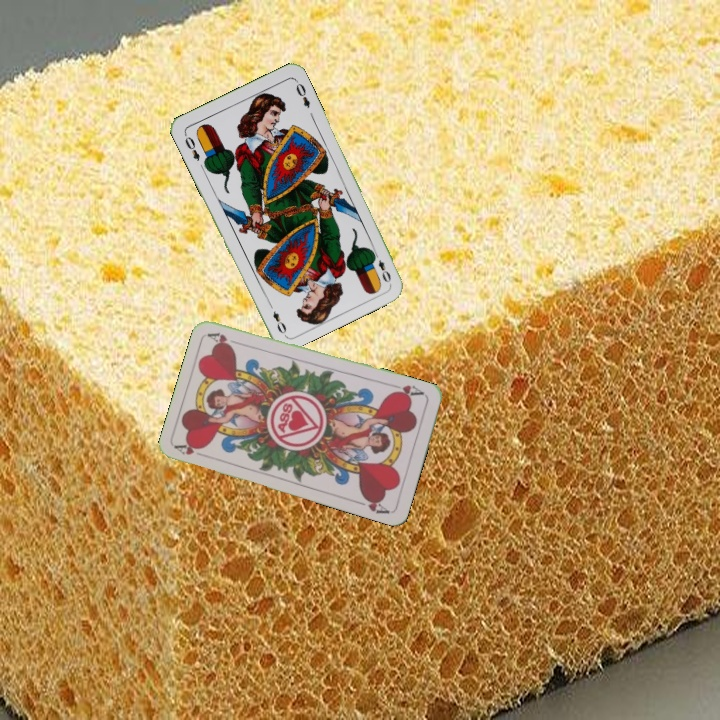EO: (370, 247, 394, 285), (180, 129, 203, 163)
HA: (388, 380, 427, 400), (172, 438, 207, 457)
